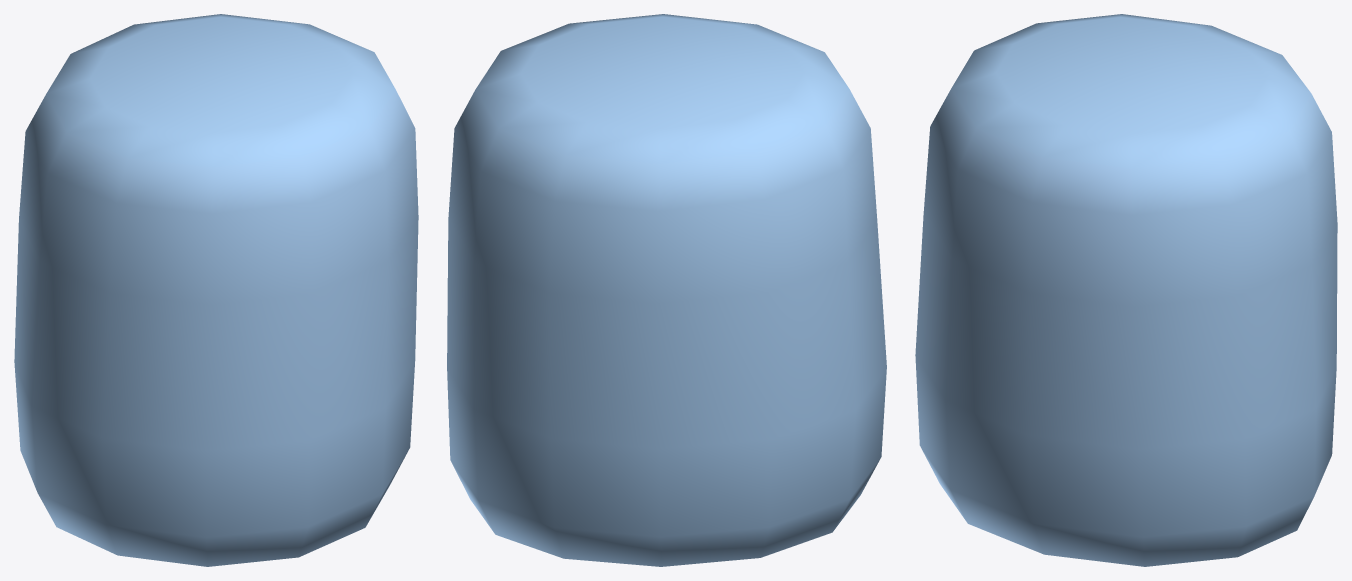
File: Marshmallow_05.glb
3 renders of one model, left to right at view 1: azimuth 30°, elevation 25°; view 2: azimuth 150°, elevation 25°; view 3: azimuth 270°, elevation 25°, orthographic. The views are drawn at different scales.
Visible parts, largest first — view 1: Marshmallow_05; view 2: Marshmallow_05; view 3: Marshmallow_05.
Part boxes in pixels (<box>): Marshmallow_05: <box>14,14,418,566</box>; Marshmallow_05: <box>447,14,886,566</box>; Marshmallow_05: <box>915,14,1337,566</box>.
Size of the model in its own units: 1.1 by 1.22 by 1.08.
Materials: 1 (1 with a texture image).
